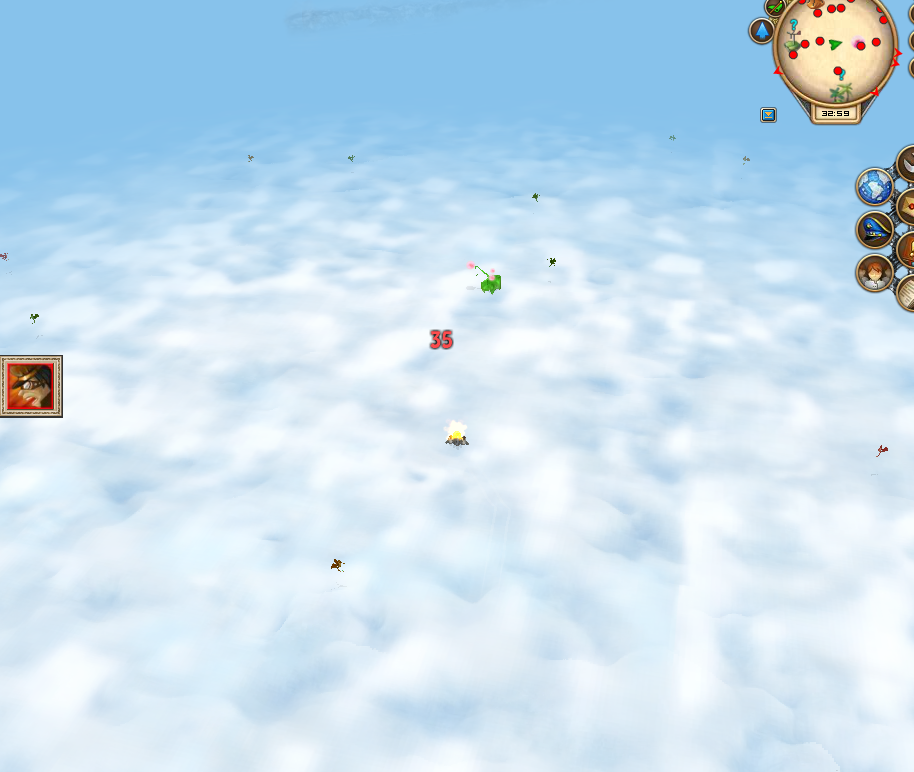dandelion-full: (458, 254, 505, 297)
